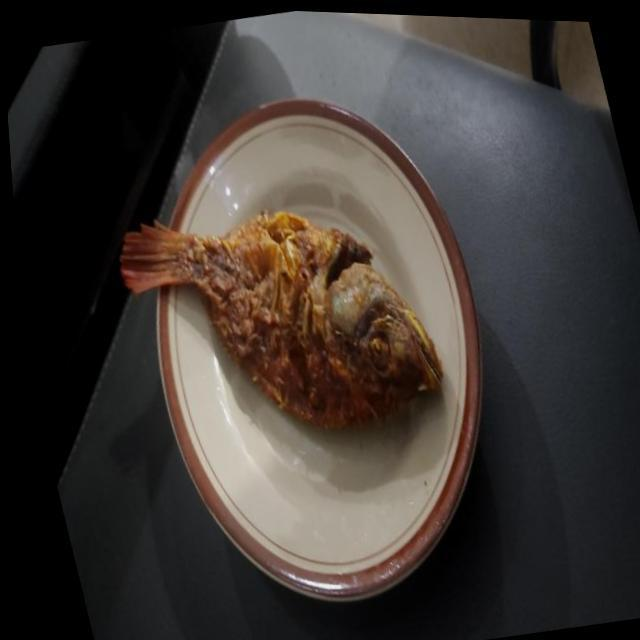ikan_mujair: (121, 210, 442, 428)
